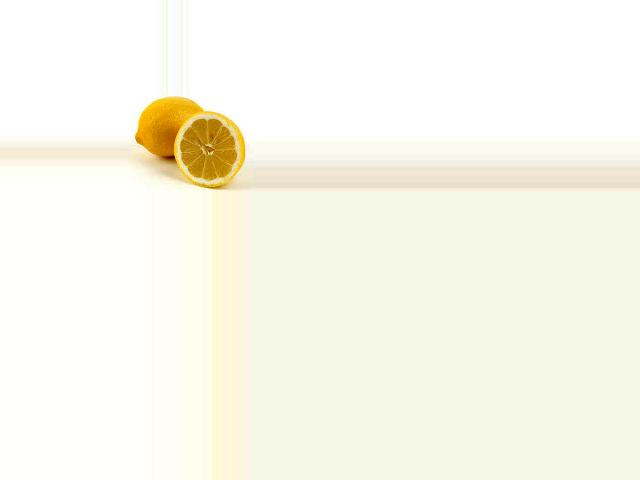lemon: (132, 97, 206, 164)
